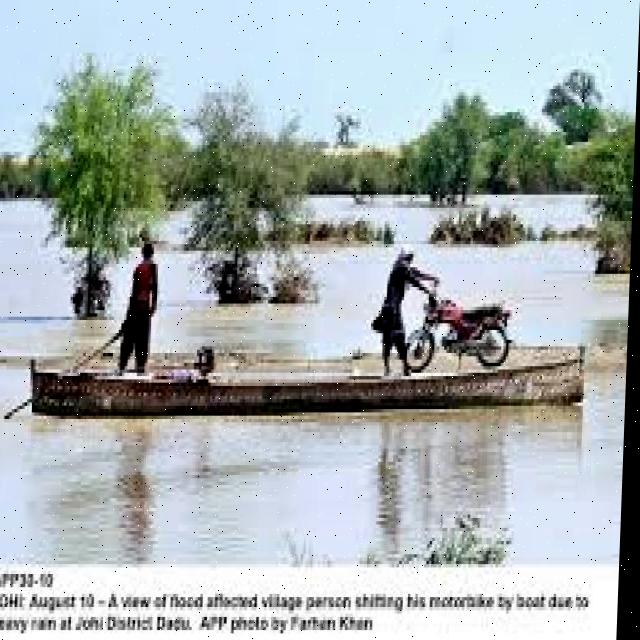civilian: (109, 237, 171, 379), (363, 244, 424, 384)
